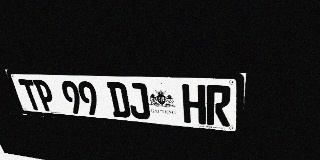9: (59, 80, 85, 114), (76, 81, 101, 116)
D: (106, 82, 131, 118)
H: (182, 84, 206, 125)
J: (126, 82, 151, 120)
P: (32, 79, 58, 112)
R: (206, 85, 231, 127)
T: (18, 79, 43, 111)
